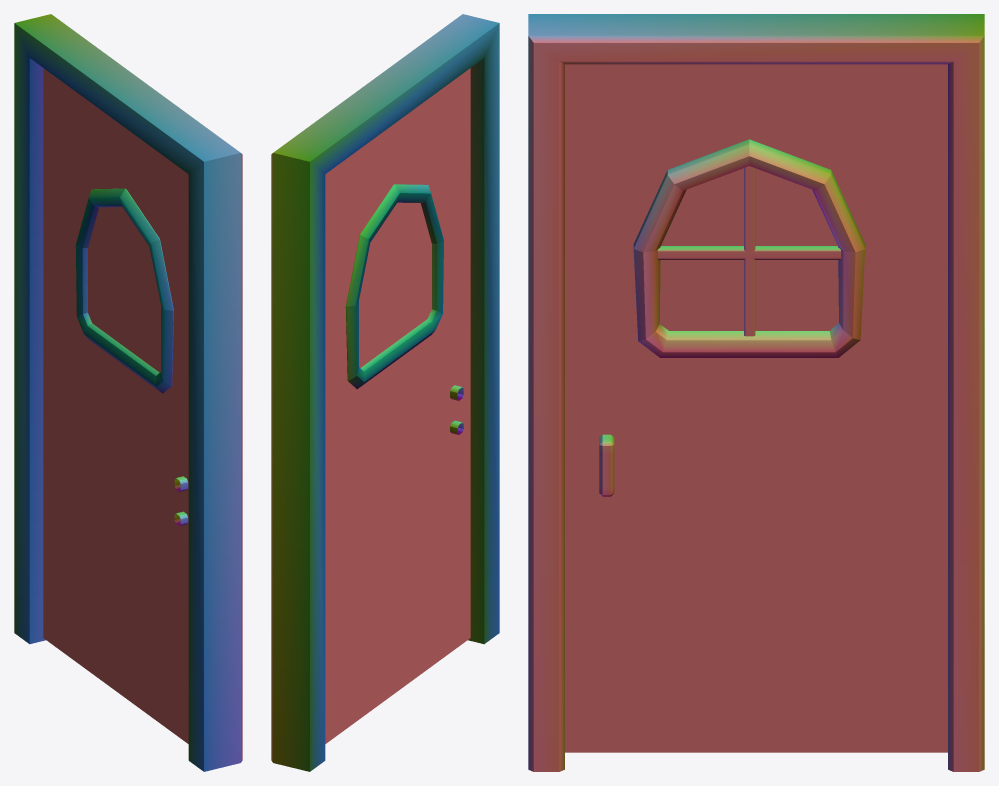
Rendered from SM_doorTestMesh.fbx.
The picture shows the model from 3 angles, left to right: view 1: azimuth 30°, elevation 25°; view 2: azimuth 150°, elevation 25°; view 3: azimuth 270°, elevation 25°; orthographic projection. The views are drawn at different scales.
Parts seen in each view (by area): view 1: Door_SM; view 2: Door_SM; view 3: Door_SM.
Part boxes in pixels (left/top/right/bottom): Door_SM: left=14, top=14, right=242, bottom=771; Door_SM: left=271, top=14, right=499, bottom=771; Door_SM: left=528, top=14, right=984, bottom=771.
Bounding box in the file's own units: 0.1603 × 2.29 × 1.29.
